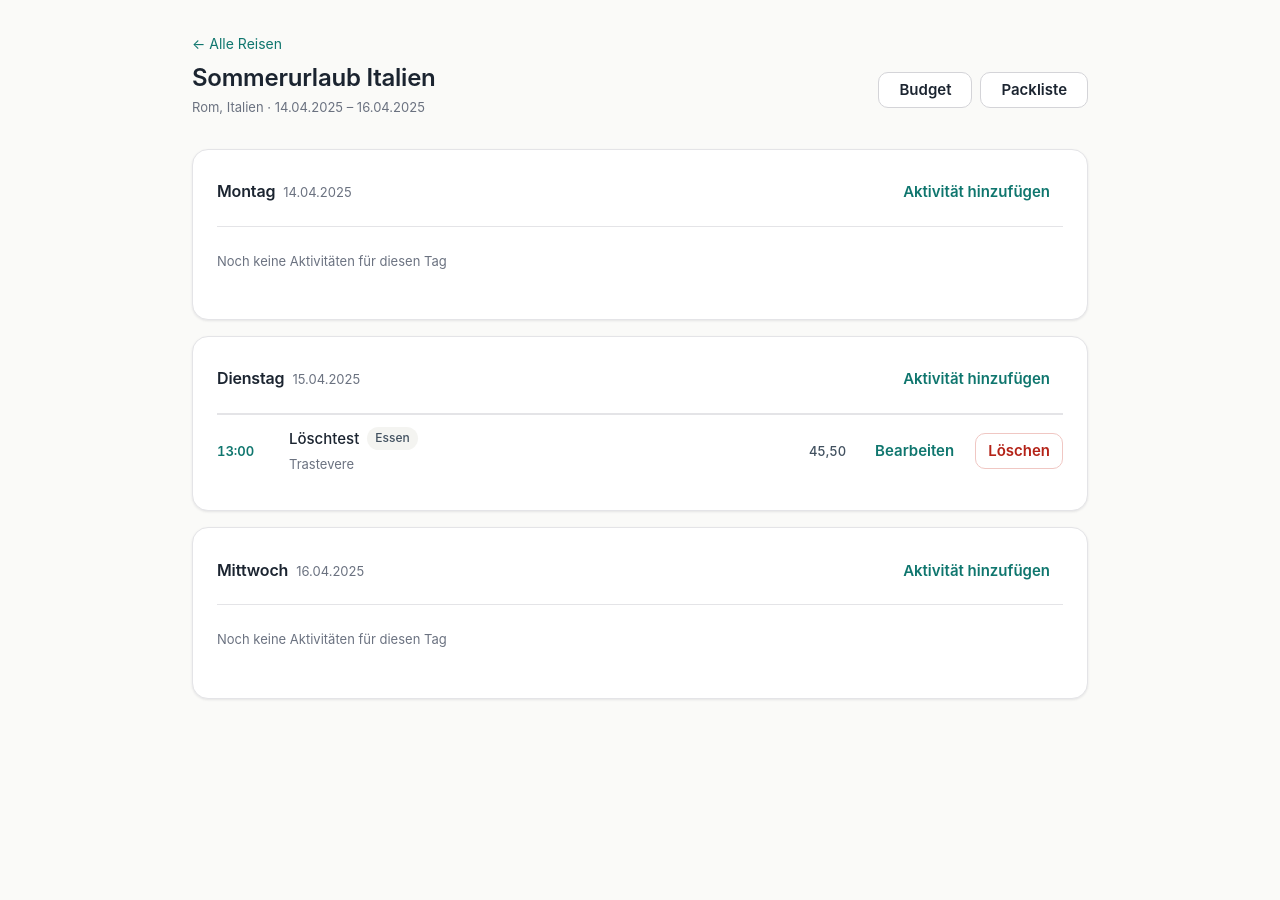
TripDetailPage › deletes an activity only after confirming in the dialog
The image size is (1280, 900).
Click the button "Löschen" at (1019, 451), box x1=975 y1=433 x2=1063 y2=469
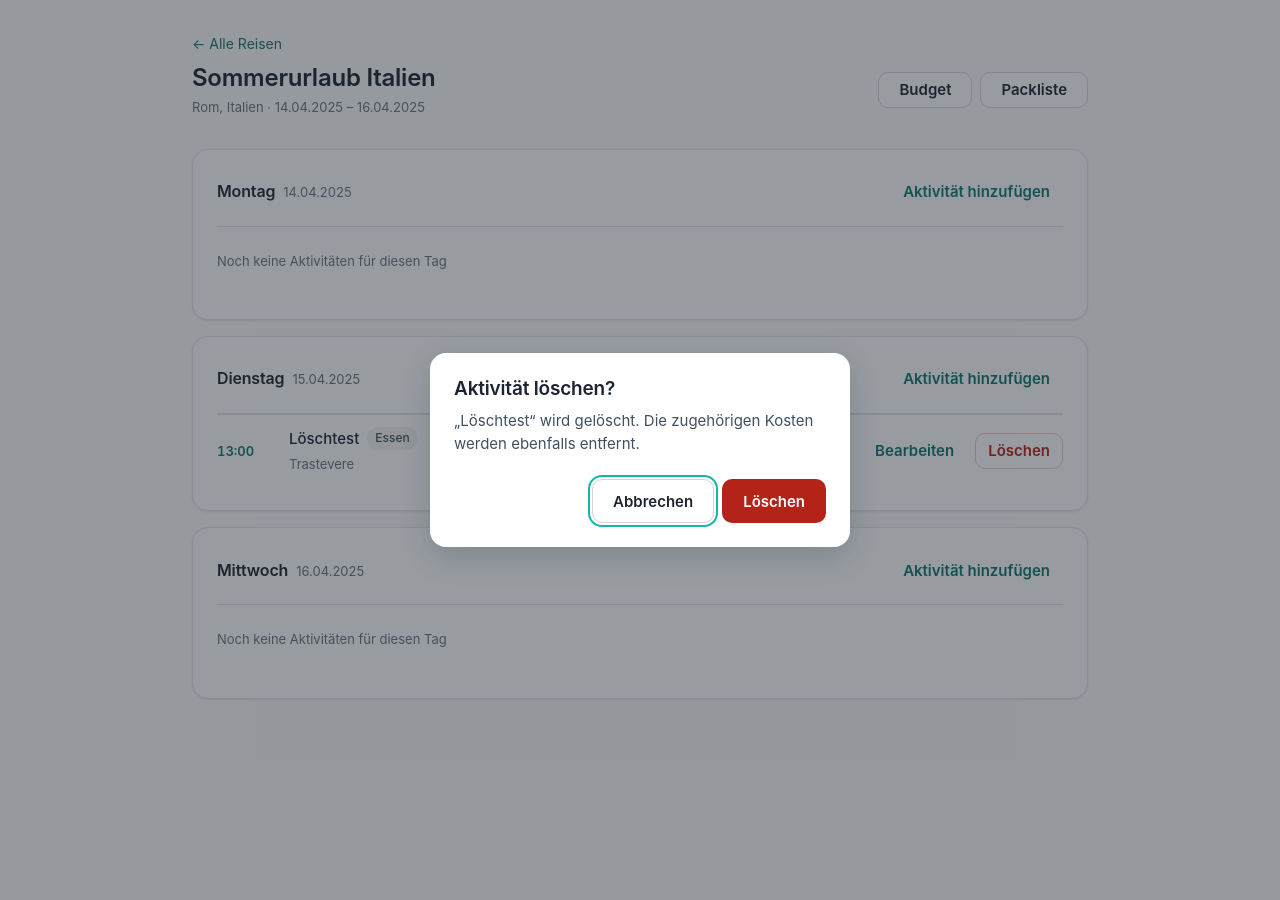
Result: the text "Löschtest" is shown at x1=460 y1=411 x2=529 y2=430
Click the button "Löschen" at (774, 501), box x1=722 y1=479 x2=826 y2=523
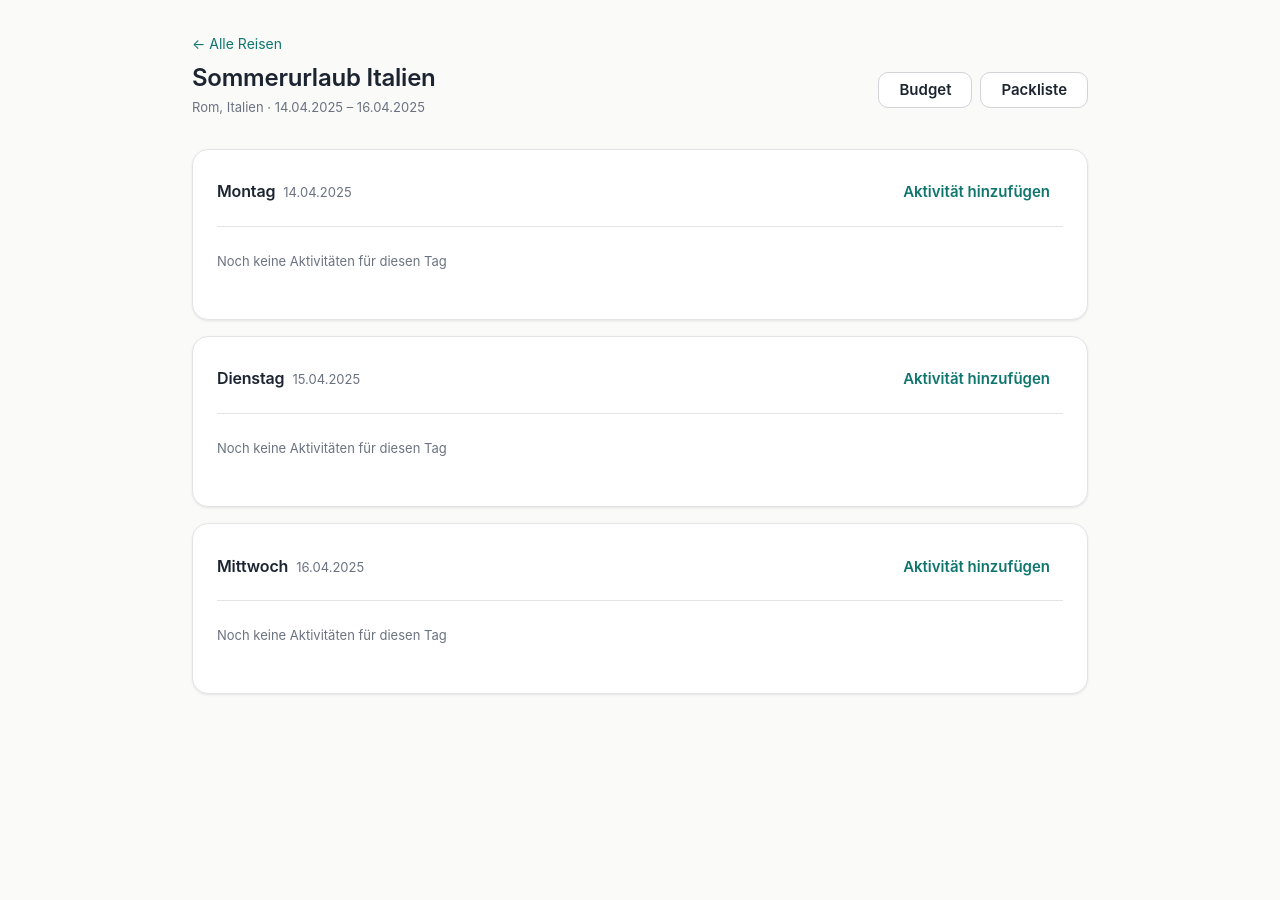
Result: the text "Noch keine Aktivitäten für diesen Tag" below "Dienstag" is shown at x1=217 y1=440 x2=447 y2=456
